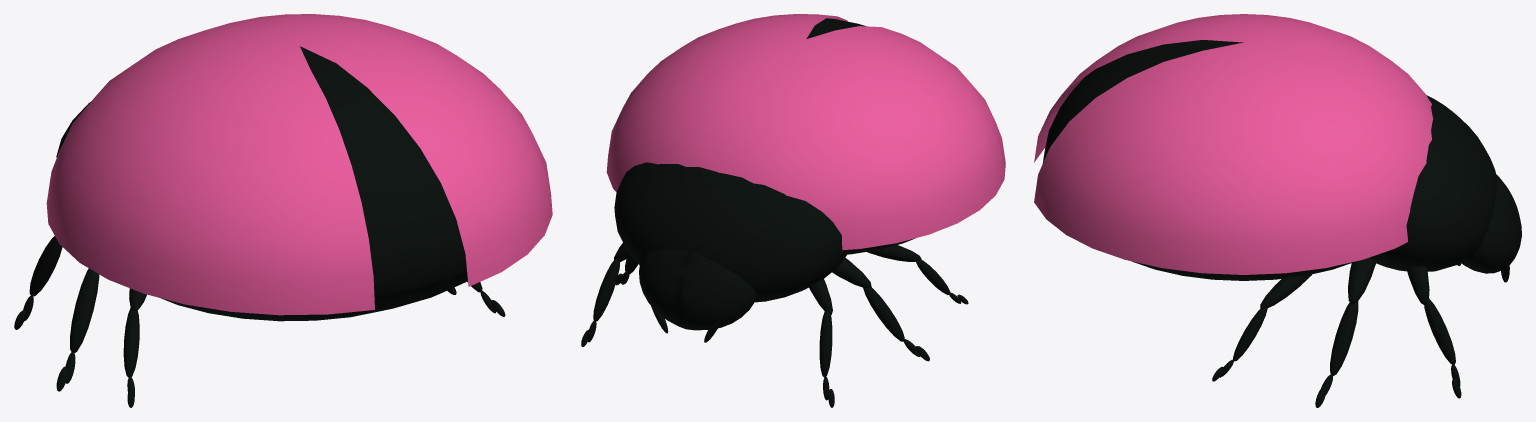
The model's file is Pink_bug.fbx.
The picture shows the model from 3 angles, left to right: view 1: azimuth 30°, elevation 25°; view 2: azimuth 150°, elevation 25°; view 3: azimuth 270°, elevation 25°; orthographic projection. The views are drawn at different scales.
Visible parts, largest first — view 1: Sphere; view 2: Sphere; view 3: Sphere.
Part boxes in pixels (bbox=[...]): Sphere: bbox=[14, 14, 552, 407]; Sphere: bbox=[581, 14, 1005, 407]; Sphere: bbox=[1034, 14, 1521, 407].
Size of the model in its own units: 176 by 129 by 196.
